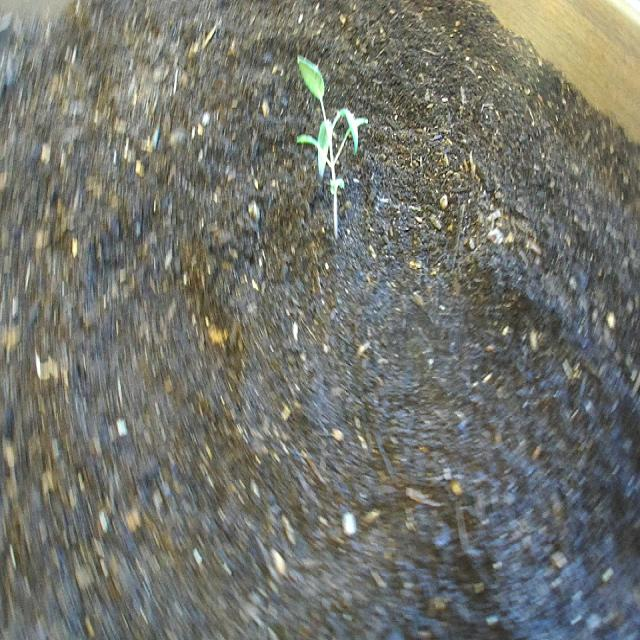Unhealthy: (290, 46, 374, 251)
